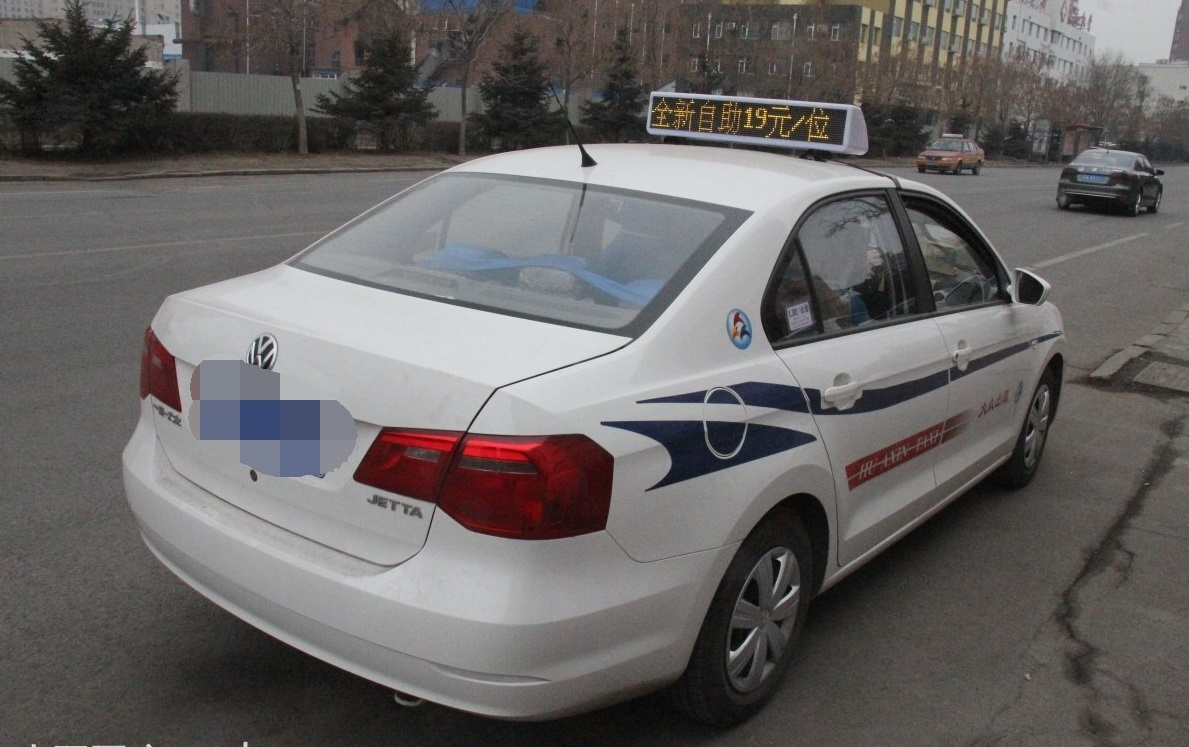taxi: (136, 78, 1084, 704)
